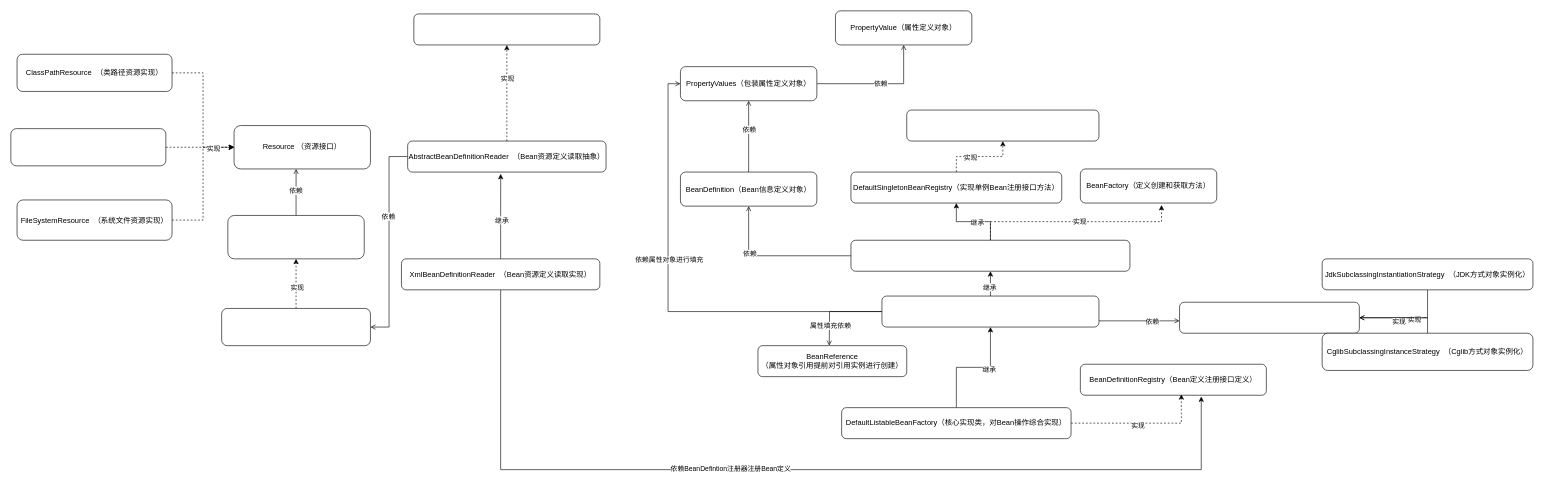
The diagram is 1544 pixels wide and 485 high, and some of its shapes have lost their labels. Here are the shapes that lost their labels. From the top down, the centre of each, then its label:
At (506,29): "BeanDefinitionReader （Bean资源定义读取接口）".
At (1002,125): "SingletonBeanRegistry（定义单例Bean注册接口方法）".
At (88,147): "URLResource （网络资源实现）".
At (295,237): "ResourceLoader （资源加载接口）".
At (990,255): "AbstractBeanFactory（抽象定义获取Bean过程，创建，实例化等模版方法）".
At (295,327): "DefaultResourceLoader （资源加载实现）".
At (990,311): "AbstractAutowireCapableBeanFactory（部分实现部分父类方法）".
At (1269,317): "InstanceStrategy （对象实例化策略接口定义）".
